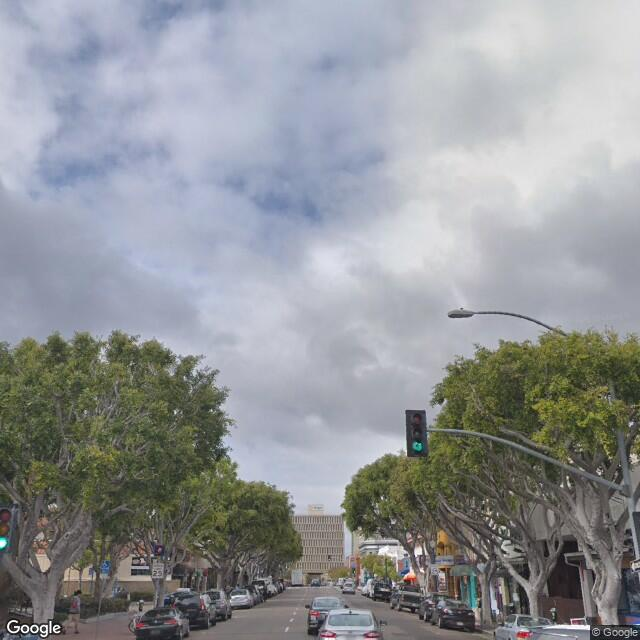light: (446, 307, 478, 318)
